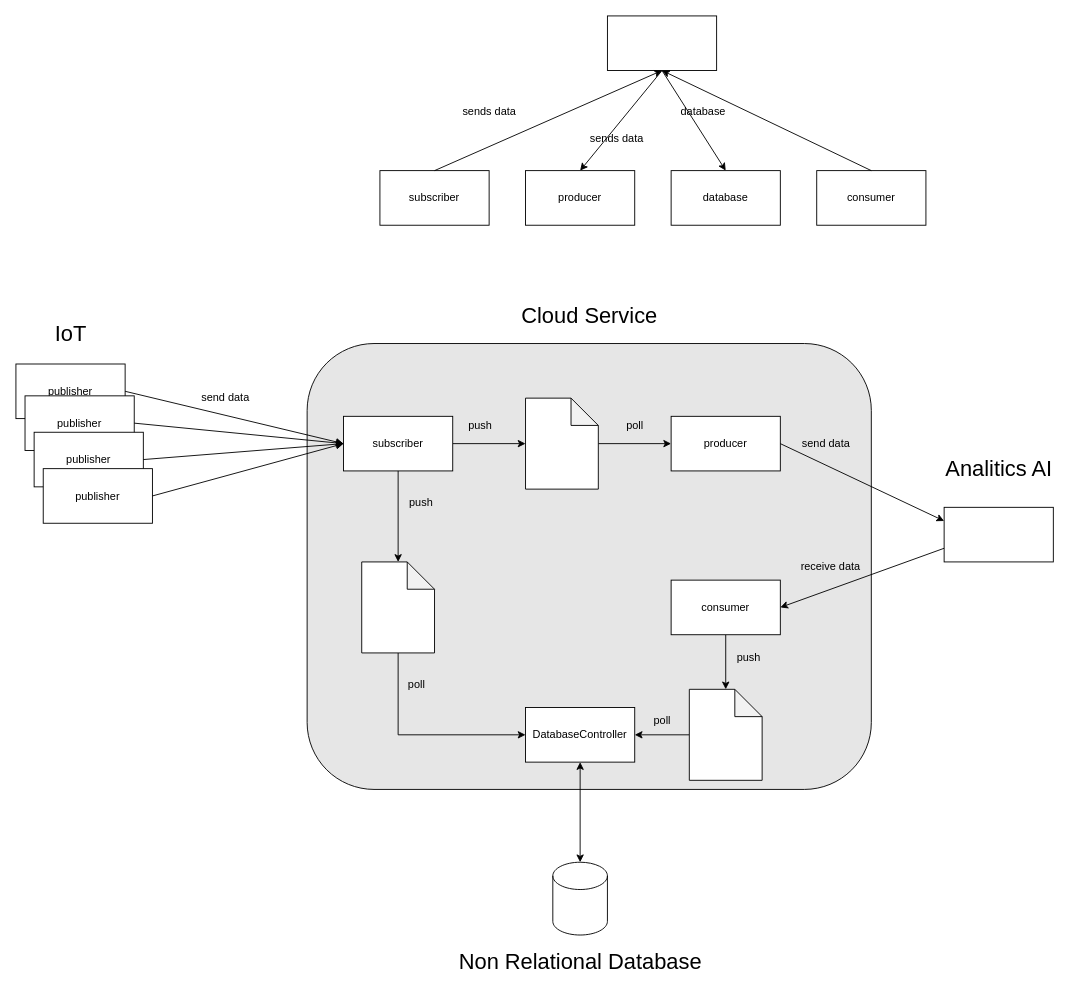
Some shapes in this 1078 by 996 pixel diagram are drawn without their labels. The centre of each missing label's shape, as x and y in pixels:
AI Agent: point (998, 534)
Controller stores data to queue: point (662, 43)
mongoDB: point (579, 898)
queue: point (725, 734)
Subscriber to Database queue: point (398, 607)
Subscriber to Producer queue: point (561, 443)
